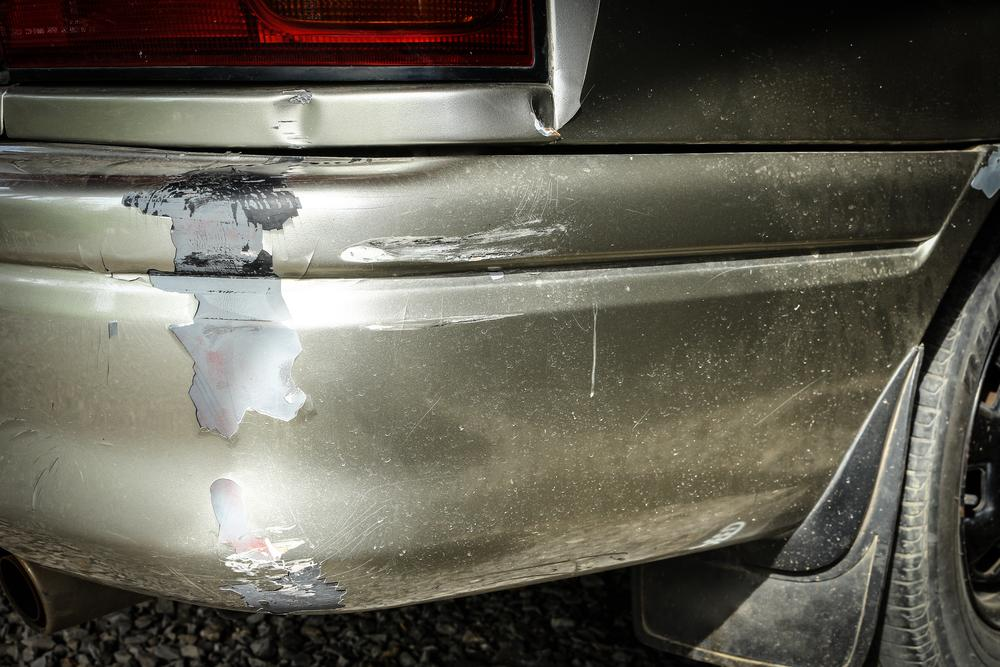dent: (272, 92, 322, 143)
scratch: (126, 161, 312, 448), (214, 519, 348, 613), (335, 217, 569, 267)
